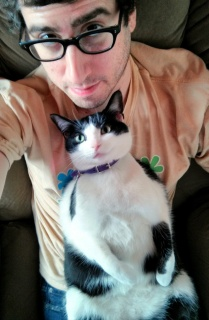Cat: (48, 90, 198, 318)
